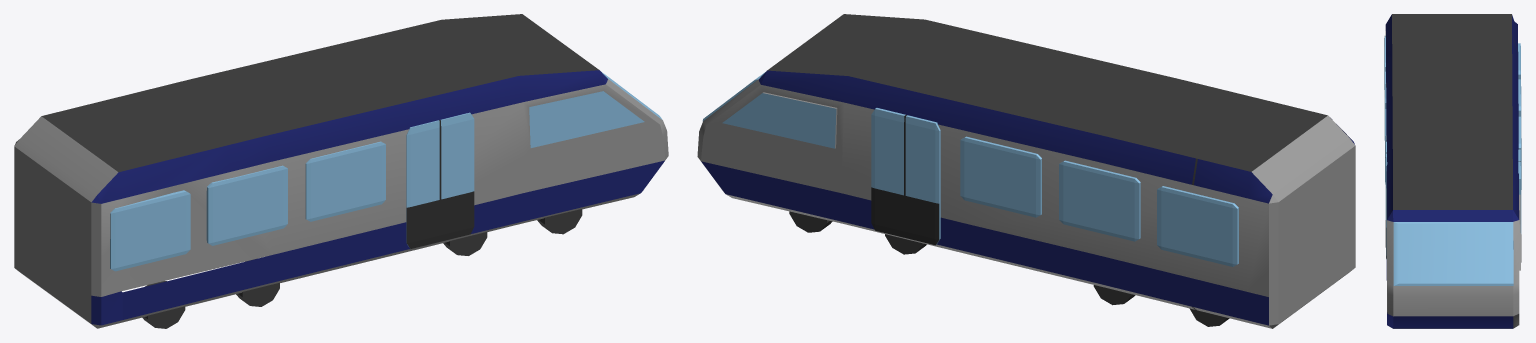
File: MetroTrain.fbx
3 renders of one model, left to right at view 1: azimuth 30°, elevation 25°; view 2: azimuth 150°, elevation 25°; view 3: azimuth 270°, elevation 25°, orthographic. The views are drawn at different scales.
Visible parts, largest first — view 1: Main metro.003; view 2: Main metro.003; view 3: Main metro.003.
Part boxes in pixels (box(x1,y1,x2,y2)): Main metro.003: box(14, 14, 668, 328); Main metro.003: box(697, 14, 1355, 328); Main metro.003: box(1384, 14, 1521, 328).
Bounding box in the file's own units: 69.14 × 19.47 × 18.19.
